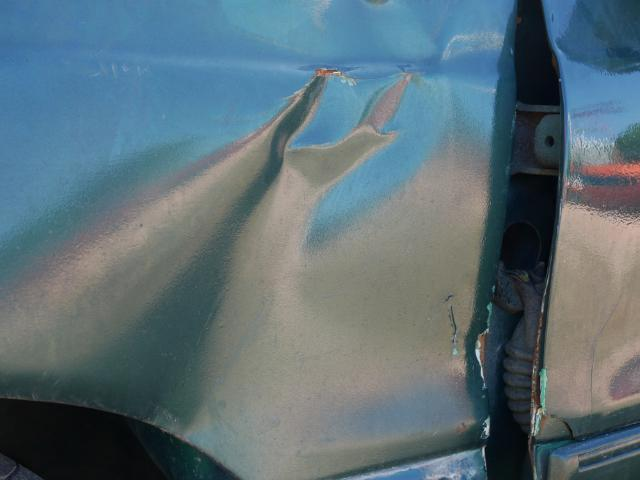dent: (43, 69, 451, 443)
dislocated part: (475, 9, 575, 480)
